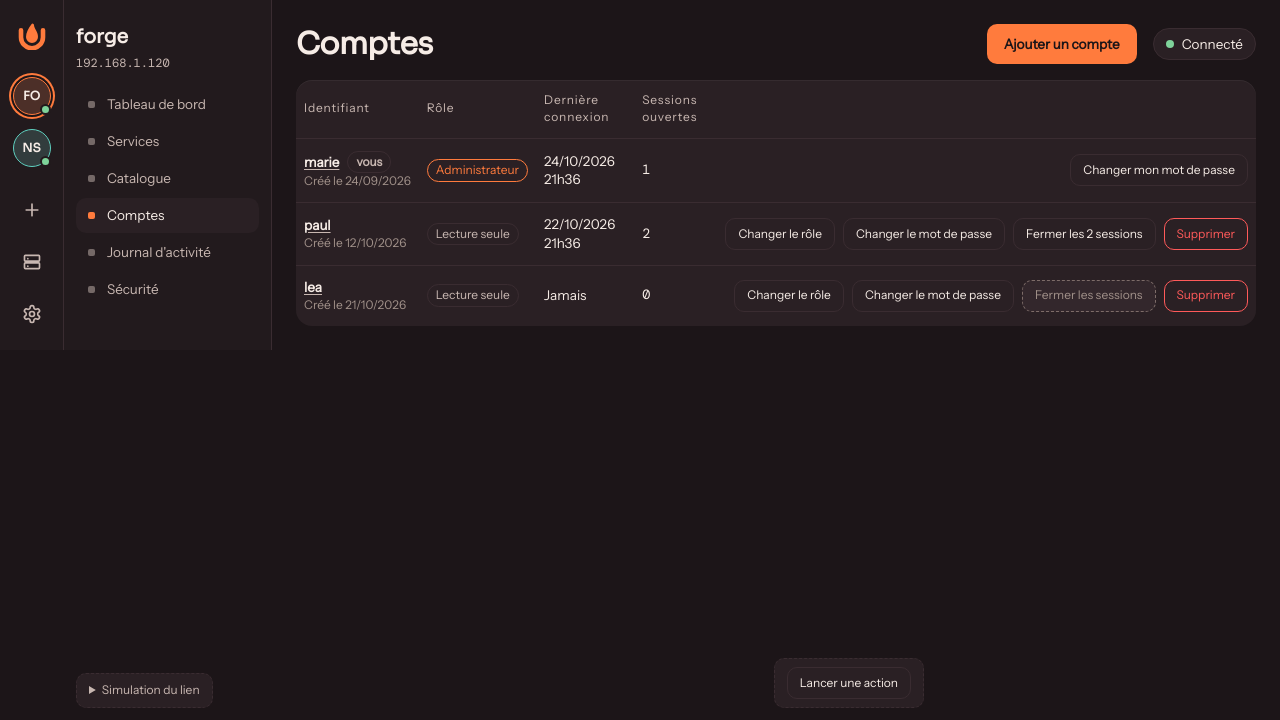
Scenario: le détail d'un compte › agent ancien : la ligne dit de mettre le serveur à jour, aucune commande, jamais « Non autorisée »
Click the button with class "table__open" showing "paul" at point(317, 226), box x1=304 y1=216 x2=331 y2=235
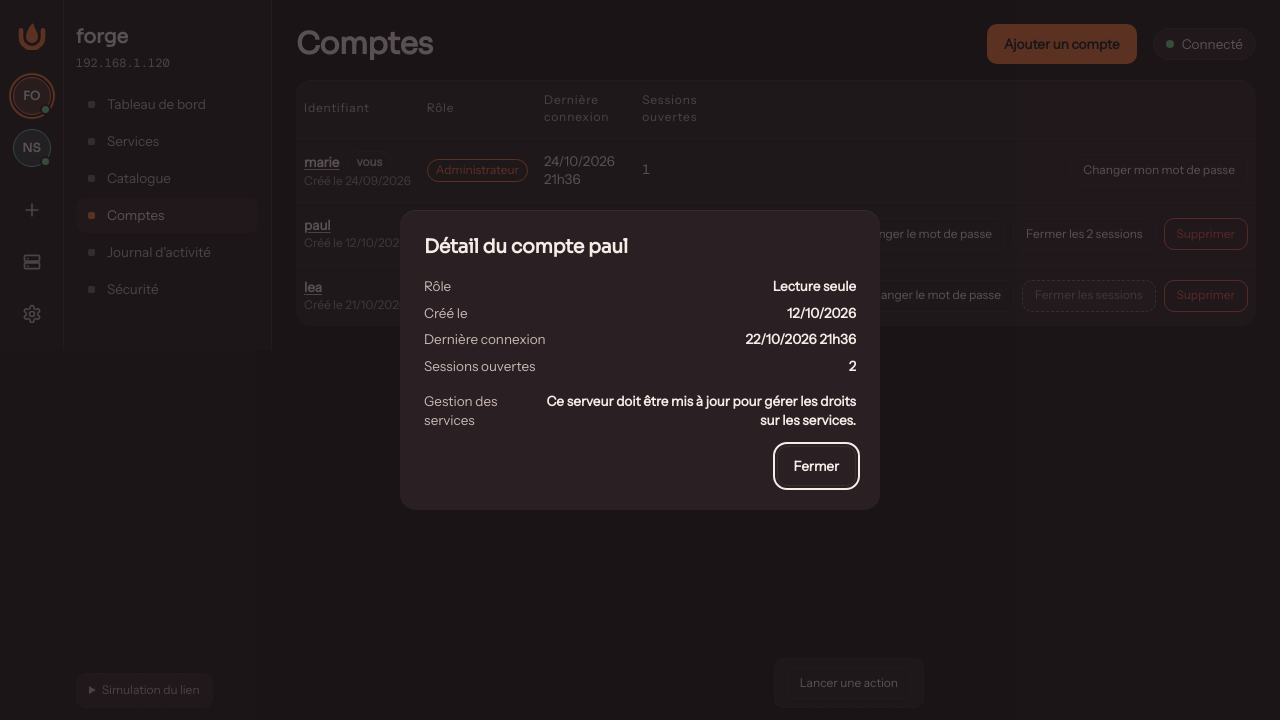
expect the text "Ce serveur doit être mis à jour pour gérer les droits sur les services." is shown: met, box x1=539 y1=392 x2=856 y2=430
